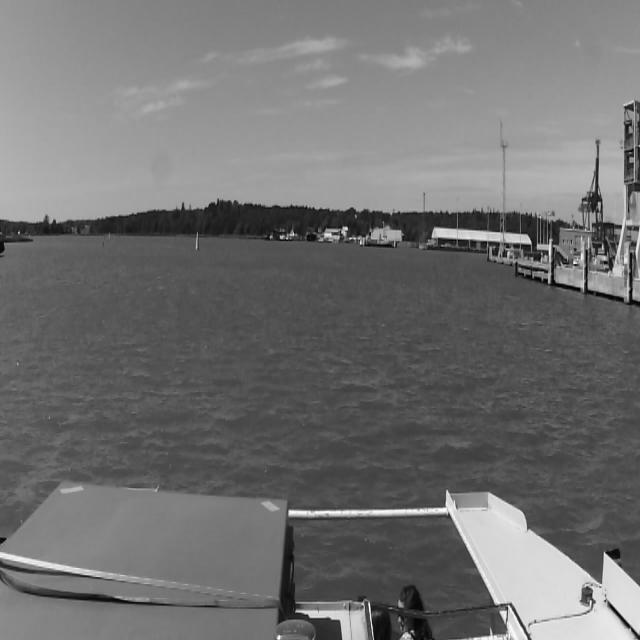buoy: (196, 227, 200, 249)
